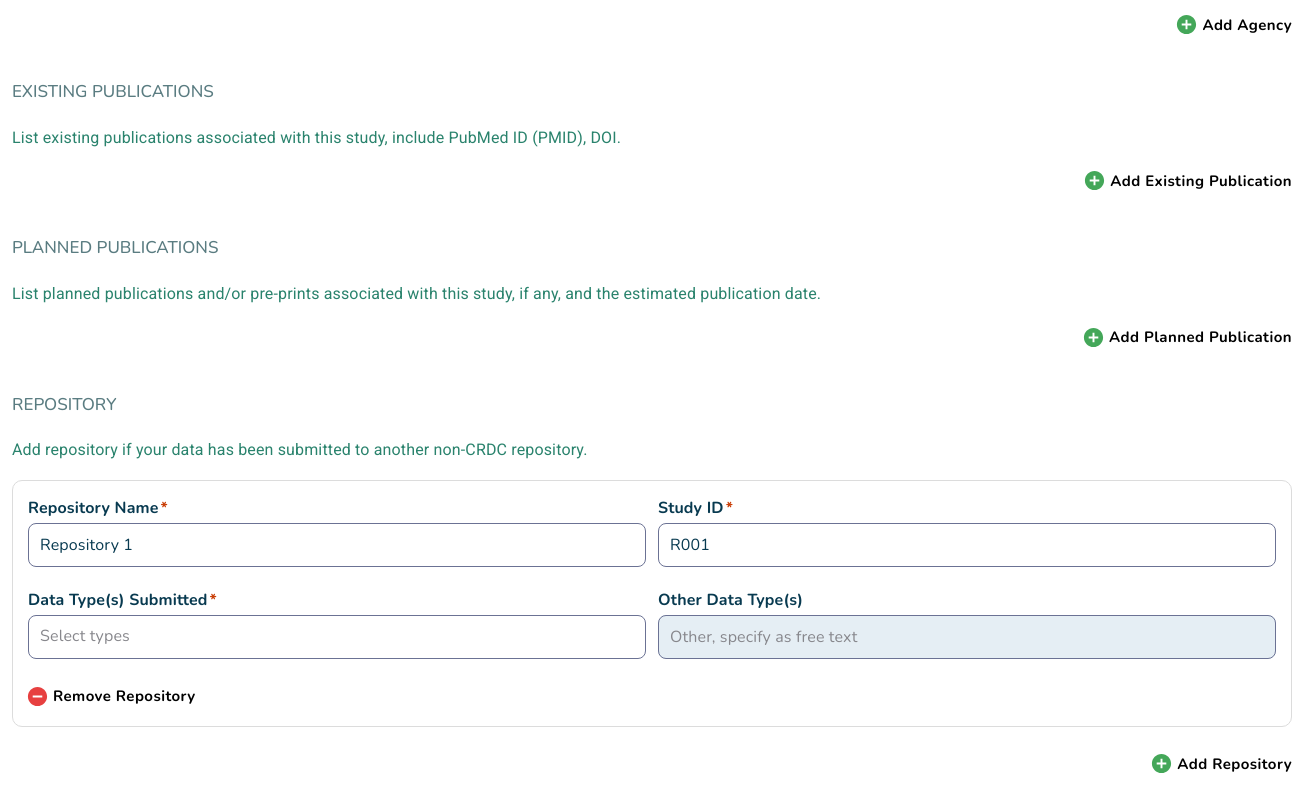
Basic Functionality › should add a repository when add button is clicked
This screenshot has width=1304, height=800.
(page scrolled)
Expected: the element with test id "section-b-repository-0" is shown, [12,480,1292,727]
What coordinates should you click on to do the following:
click the button with test id "section-b-add-repository-button"
I would click on:
 (1220, 764)
Its box is [1149,752,1292,775].
(page scrolled)
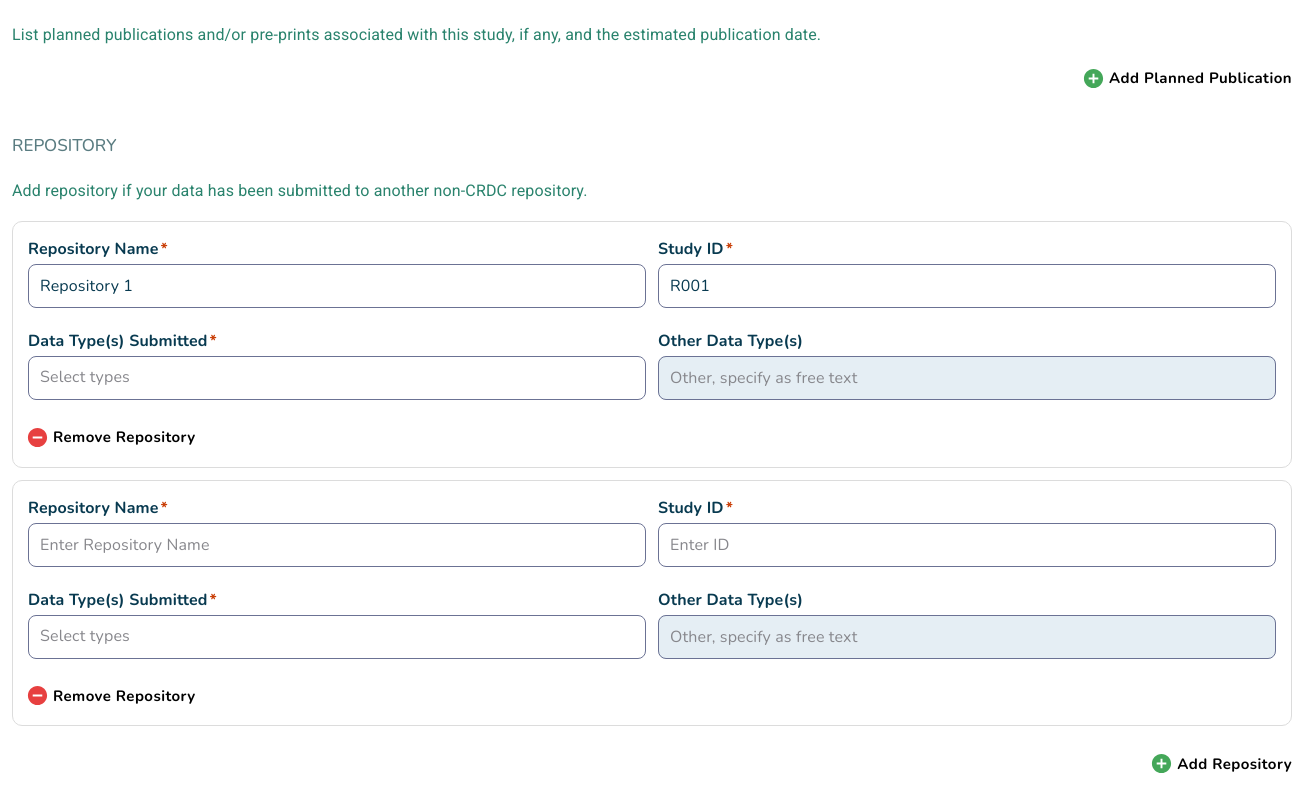
Now the element with test id "section-b-repository-1" is shown, box [12,480,1292,726]
